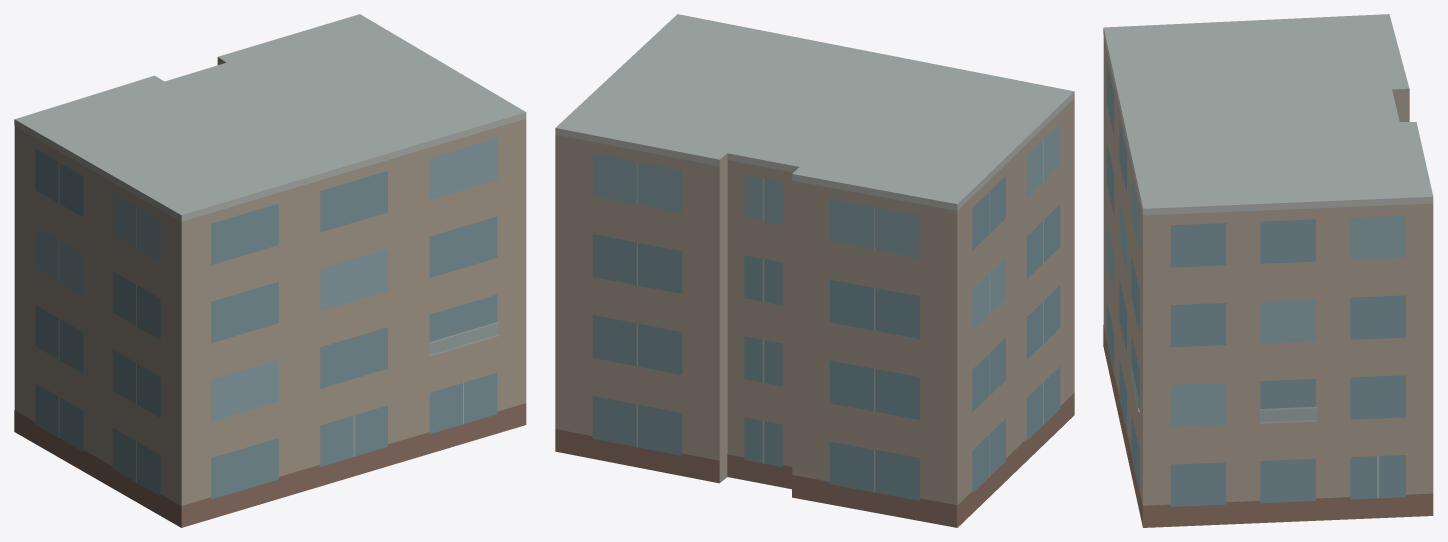
File: survey-upis-32945582.glb
3 renders of one model, left to right at view 1: azimuth 30°, elevation 25°; view 2: azimuth 150°, elevation 25°; view 3: azimuth 270°, elevation 25°, orthographic. The views are drawn at different scales.
Parts seen in each view (by area): view 1: survey-upis-32945582.tmp; view 2: survey-upis-32945582.tmp; view 3: survey-upis-32945582.tmp.
Part boxes in pixels (bbox=[...]): survey-upis-32945582.tmp: bbox=[14, 14, 526, 527]; survey-upis-32945582.tmp: bbox=[555, 14, 1074, 527]; survey-upis-32945582.tmp: bbox=[1103, 14, 1433, 527].
Bounding box in the file's own units: 15.39 × 11.75 × 11.02.
